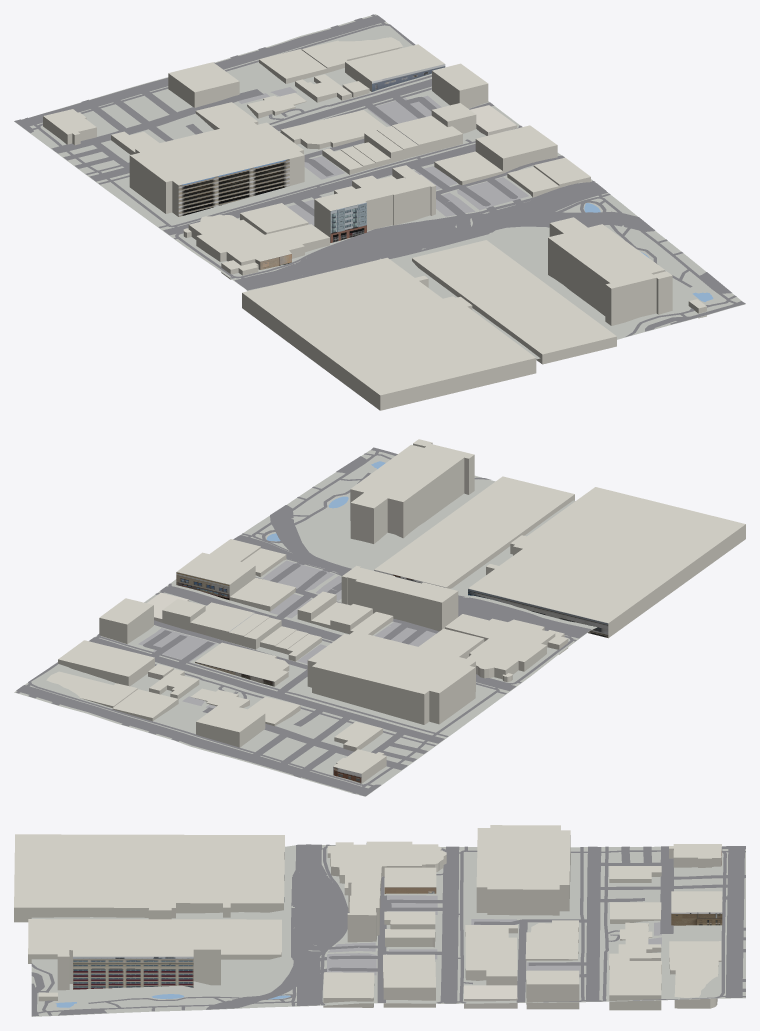
The model's file is west.glb.
3 views of the same model, one above another, from view 1: azimuth 30°, elevation 25°; view 2: azimuth 150°, elevation 25°; view 3: azimuth 270°, elevation 25° (orthographic). The views are drawn at different scales.
Parts seen in each view (by area): view 1: roads, bldg_396448198, ground, bldg_396448398, bldg_396448213, bldg_538431249, bldg_560823043_SeeFilm_Cinema, bldg_560822411_606_Apartments, bldg_538431249_facade, bldg_396448465_Soriano_Professional_Bui, bldg_396448509, bldg_561819316 (+20 smaller); view 2: ground, bldg_396448198, roads, bldg_538431249, bldg_396448398, bldg_396448213, bldg_560822411_606_Apartments, bldg_560823043_SeeFilm_Cinema, bldg_536504494_Admiral_Theatre, bldg_561819316, bldg_396448509, bldg_396448412_Pacific_Building (+21 smaller); view 3: roads, ground, bldg_396448198, bldg_538431249, bldg_396448398, bldg_396448213, bldg_396448213_facade, bldg_560823043_SeeFilm_Cinema, bldg_536504494_Admiral_Theatre, bldg_560822411_606_Apartments, bldg_396448465_Soriano_Professional_Bui, bldg_396448412_Pacific_Building (+25 smaller).
Boxes of the visible parts, x1,y1,x2,y2 form: roads: (14, 14, 745, 336); bldg_396448198: (242, 257, 536, 410); ground: (14, 14, 745, 359); bldg_396448398: (412, 240, 616, 364); bldg_396448213: (548, 217, 672, 325); bldg_538431249: (129, 121, 304, 216); bldg_560823043_SeeFilm_Cinema: (188, 215, 329, 269); bldg_560822411_606_Apartments: (314, 175, 435, 242); bldg_538431249_facade: (178, 159, 289, 216); bldg_396448465_Soriano_Professional_Bui: (475, 125, 557, 173); bldg_396448509: (280, 110, 386, 149); bldg_561819316: (168, 62, 239, 107); ground: (14, 450, 597, 796); bldg_396448198: (468, 487, 745, 637); roads: (16, 447, 591, 796); bldg_538431249: (307, 631, 475, 724); bldg_396448398: (374, 476, 574, 588); bldg_396448213: (350, 439, 474, 543); bldg_560822411_606_Apartments: (341, 565, 458, 631); bldg_560823043_SeeFilm_Cinema: (445, 614, 555, 679); bldg_536504494_Admiral_Theatre: (58, 640, 154, 686); bldg_561819316: (196, 703, 265, 747); bldg_396448509: (195, 642, 289, 686); bldg_396448412_Pacific_Building: (99, 598, 153, 643); roads: (31, 844, 745, 1016); ground: (31, 845, 745, 1016); bldg_396448198: (14, 834, 284, 922); bldg_538431249: (476, 825, 570, 915); bldg_396448398: (28, 919, 281, 963); bldg_396448213: (57, 928, 220, 990); bldg_396448213_facade: (73, 956, 193, 989); bldg_560823043_SeeFilm_Cinema: (330, 841, 446, 895); bldg_536504494_Admiral_Theatre: (609, 961, 661, 1010); bldg_560822411_606_Apartments: (347, 865, 380, 942); bldg_396448465_Soriano_Professional_Bui: (383, 962, 435, 1007); bldg_396448412_Pacific_Building: (526, 970, 579, 1009).
Bounding box in the file's own units: 249 × 27.44 × 438.
Materials: 65 (13 with a texture image).
